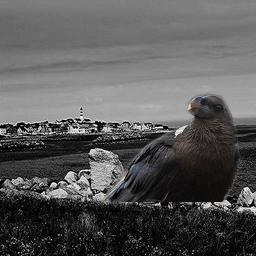Crow: (100, 92, 242, 202)
